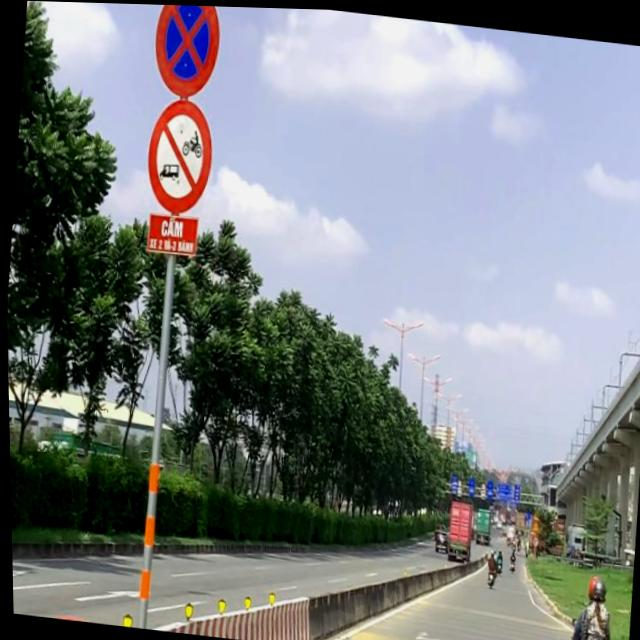Cam dung xe va do xe: (146, 3, 226, 102)
